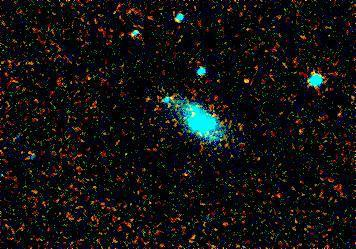star: (233, 64, 263, 94)
